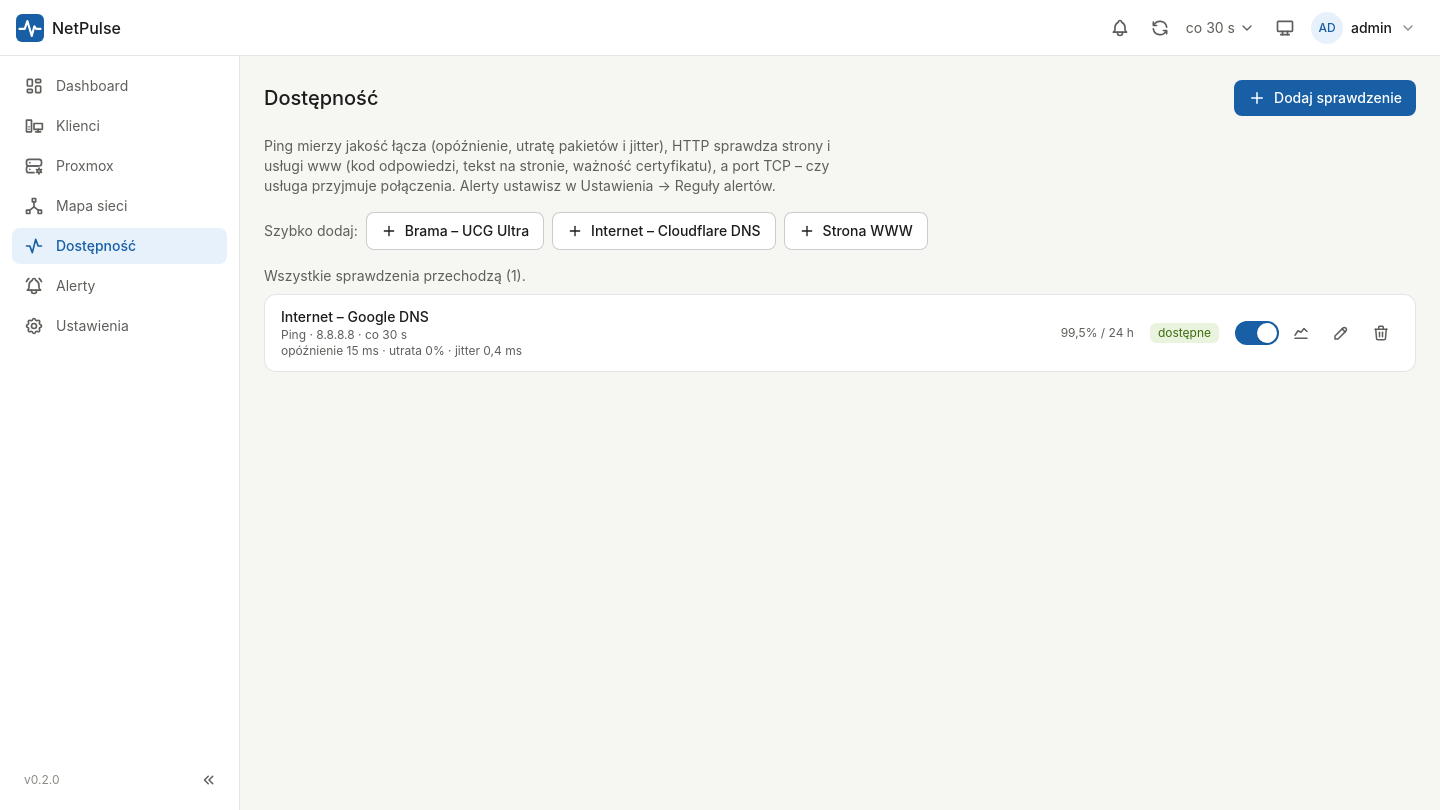
Test: Dostępność › proponuje ping do bramy każdego routera i ukrywa gotowe sprawdzenia, które już są
Click the button "Brama – UCG Ultra" at (455, 231), box x1=366 y1=212 x2=544 y2=250
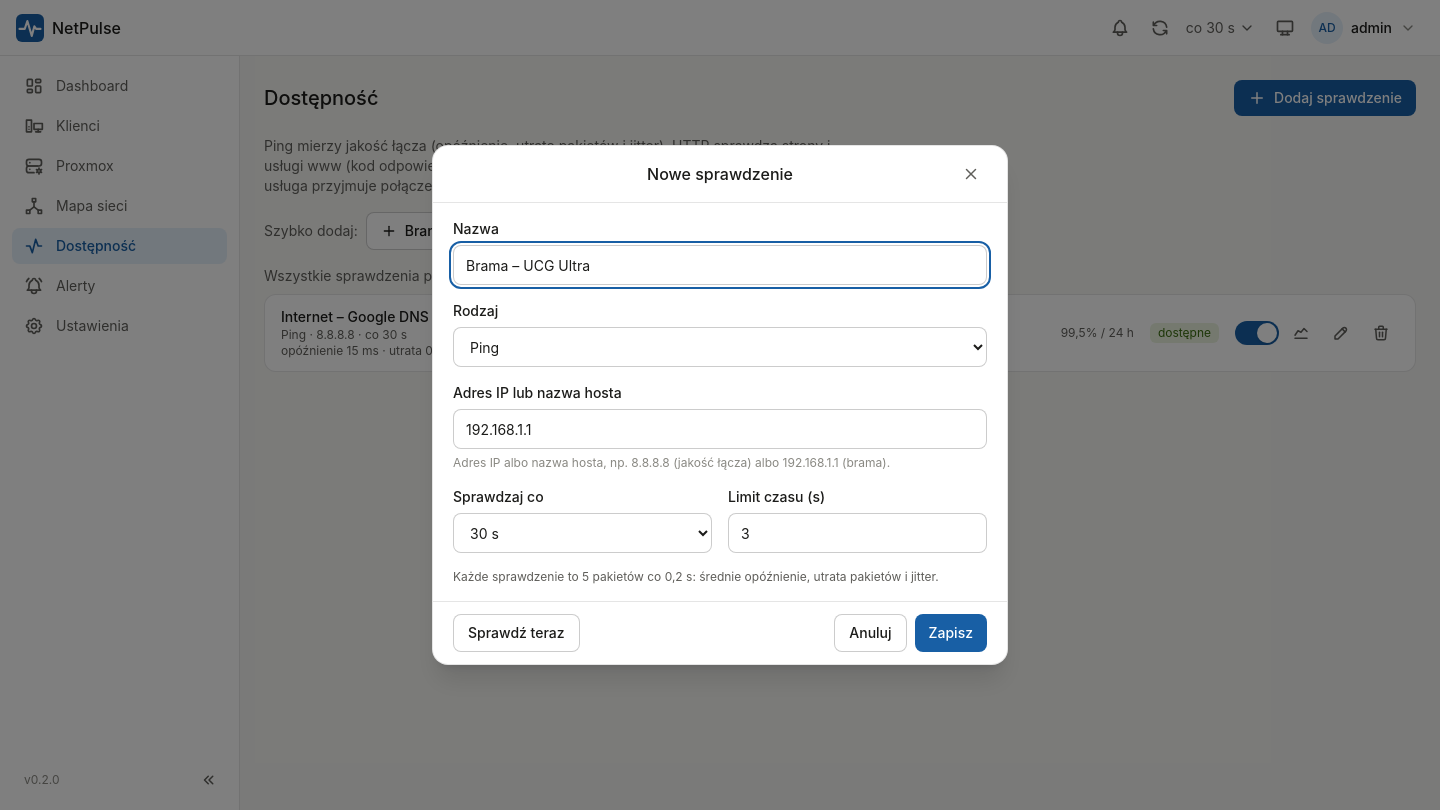
Expected: the field labelled "Adres IP lub nazwa hosta" holds "192.168.1.1", x1=453 y1=409 x2=987 y2=449
Expected: the field labelled "Nazwa" holds "Brama – UCG Ultra", x1=453 y1=245 x2=987 y2=285
